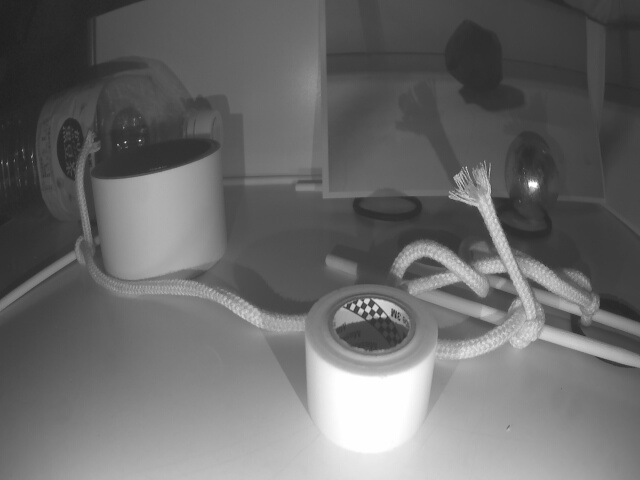Live: (511, 150, 563, 216)
